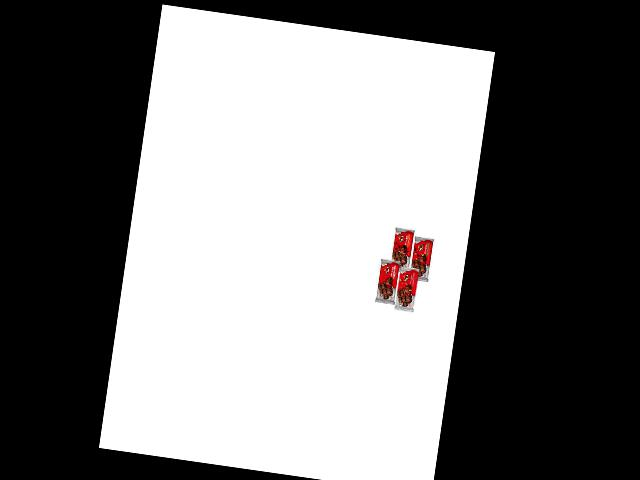chocolate: (404, 232, 437, 285)
